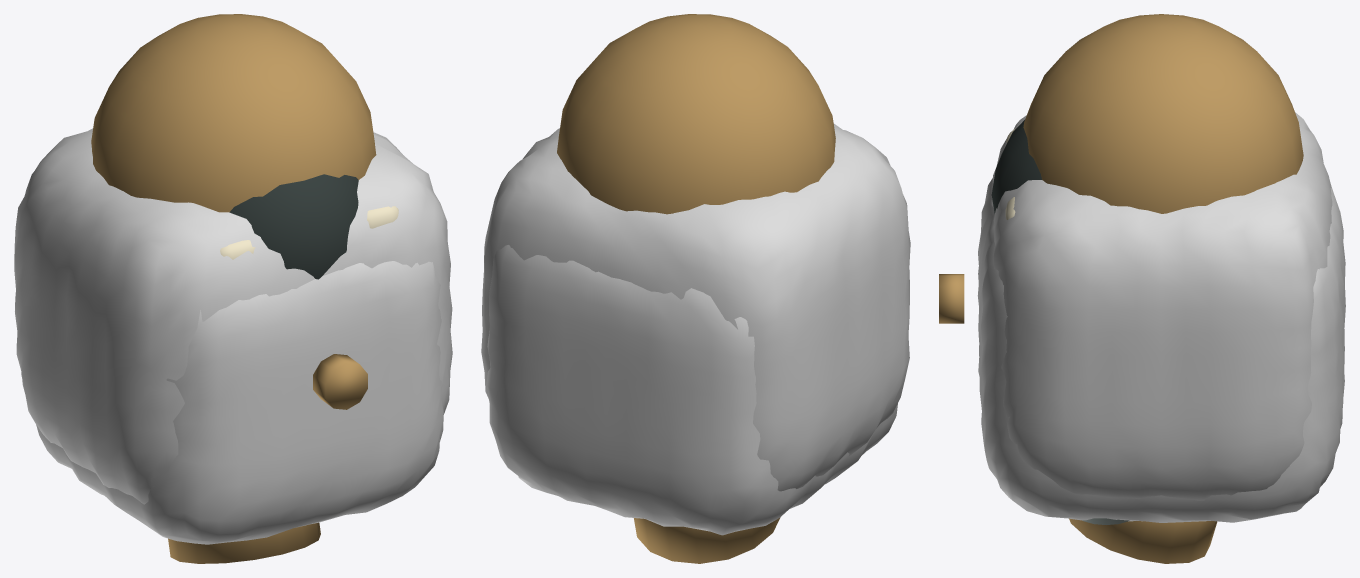
File: brute-arm-0.glb
The picture shows the model from 3 angles, left to right: view 1: azimuth 30°, elevation 25°; view 2: azimuth 150°, elevation 25°; view 3: azimuth 270°, elevation 25°; orthographic projection. The views are drawn at different scales.
Visible parts, largest first — view 1: upper_clay, lower_clay, upper_brass, hand_mechanism, lower_brass, hand_ivory; view 2: upper_clay, lower_clay, upper_brass, lower_brass; view 3: upper_clay, upper_brass, lower_clay, lower_brass, hand_mechanism.
Boxes of the visible parts, left/top/right/bottom form: upper_clay: left=14, top=128, right=452, bottom=504; lower_clay: left=21, top=261, right=443, bottom=544; upper_brass: left=91, top=14, right=376, bottom=212; hand_mechanism: left=229, top=174, right=358, bottom=279; lower_brass: left=168, top=354, right=367, bottom=563; hand_ivory: left=220, top=206, right=398, bottom=259; upper_clay: left=481, top=123, right=910, bottom=491; lower_clay: left=486, top=245, right=897, bottom=535; upper_brass: left=557, top=14, right=835, bottom=214; lower_brass: left=634, top=517, right=780, bottom=563; upper_clay: left=991, top=112, right=1332, bottom=500; upper_brass: left=1023, top=14, right=1303, bottom=213; lower_clay: left=977, top=178, right=1345, bottom=522; lower_brass: left=939, top=274, right=1217, bottom=563; hand_mechanism: left=991, top=120, right=1041, bottom=213.
Bounding box in the file's own units: 0.4871 × 0.725 × 0.5151.
